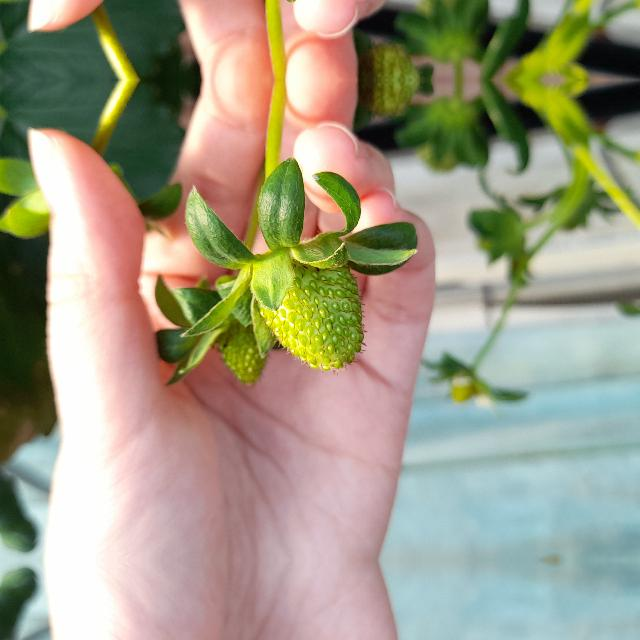Health_25: (259, 261, 367, 375), (198, 282, 270, 388)
